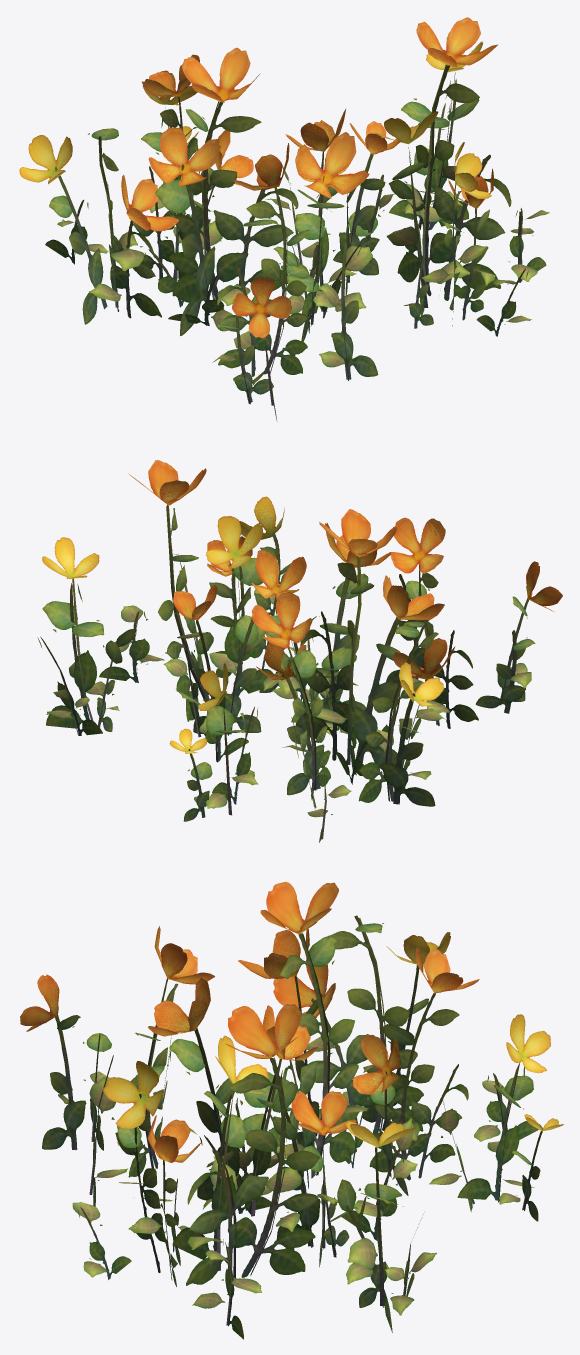
Rendered from Yland1_Zb_19_Yland1.FBX.
The picture shows the model from 3 angles, top to bottom: view 1: azimuth 30°, elevation 25°; view 2: azimuth 150°, elevation 25°; view 3: azimuth 270°, elevation 25°; orthographic projection. The views are drawn at different scales.
Visible parts, largest first — view 1: Yland1_Zb_19_Yland1; view 2: Yland1_Zb_19_Yland1; view 3: Yland1_Zb_19_Yland1.
Part boxes in pixels (left/top/right/bottom): Yland1_Zb_19_Yland1: left=19, top=17, right=549, bottom=421; Yland1_Zb_19_Yland1: left=37, top=460, right=562, bottom=842; Yland1_Zb_19_Yland1: left=20, top=881, right=563, bottom=1339.
Size of the model in its own units: 6.02 by 3.33 by 5.47.
